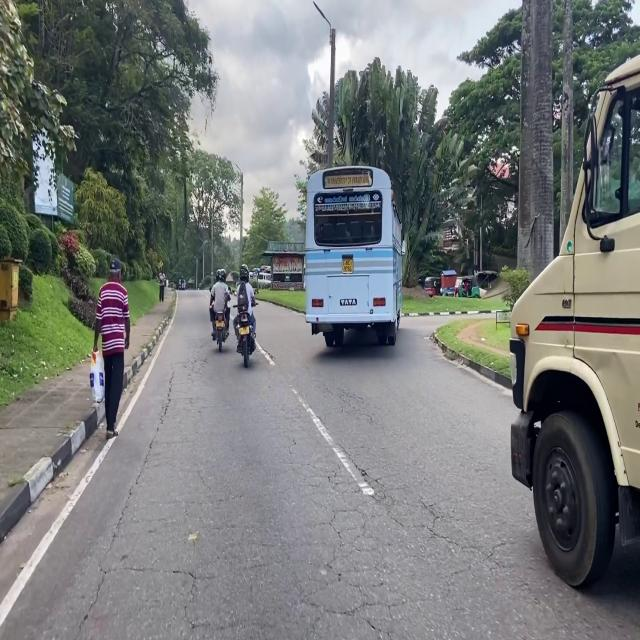bus: (305, 166, 402, 347)
motorcycle: (236, 310, 255, 367), (216, 313, 225, 351)
person: (93, 258, 130, 439), (233, 264, 256, 353), (210, 268, 230, 340), (159, 264, 166, 302)
three wheeler: (456, 276, 479, 297), (425, 276, 440, 296)
truck: (510, 56, 640, 585)
